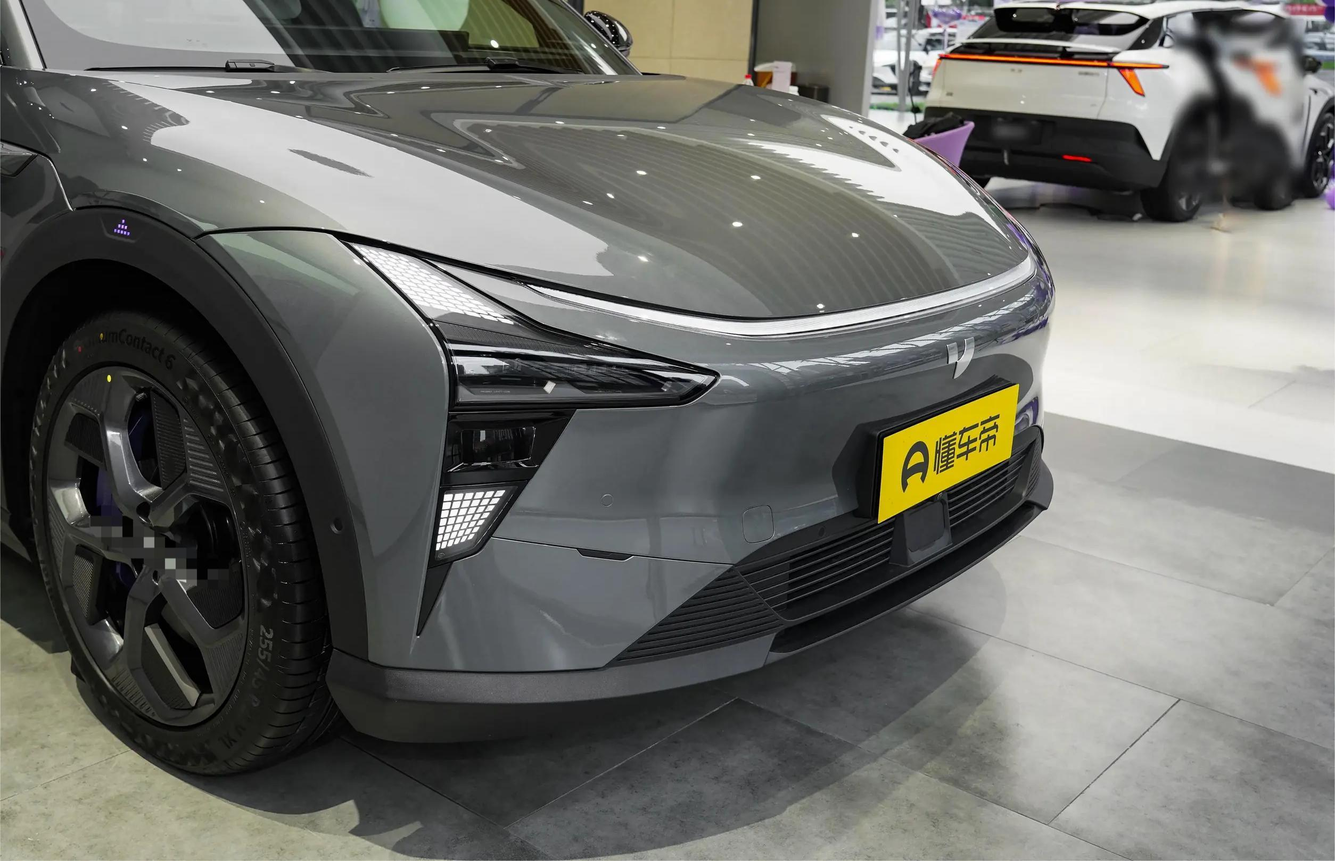JIYUE: (945, 336, 975, 379)
